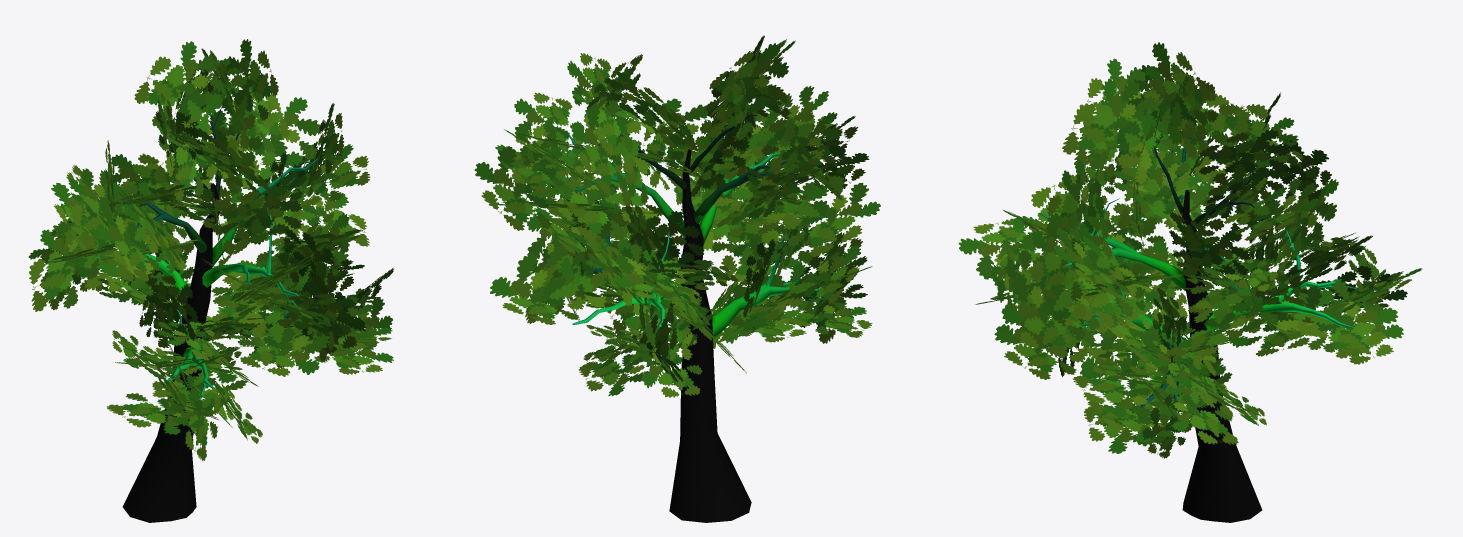
Rendered from OakTree.fbx.
3 views of the same model, side by side, from view 1: azimuth 30°, elevation 25°; view 2: azimuth 150°, elevation 25°; view 3: azimuth 270°, elevation 25° (orthographic). The views are drawn at different scales.
Visible parts, largest first — view 1: Tree_1, Tree_0; view 2: Tree_1, Tree_0; view 3: Tree_1, Tree_0.
Part boxes in pixels (<box>): Tree_1: <box>28,39,393,461</box>; Tree_0: <box>93,99,327,522</box>; Tree_1: <box>474,35,880,397</box>; Tree_0: <box>556,100,827,522</box>; Tree_1: <box>958,42,1422,458</box>; Tree_0: <box>1027,110,1356,522</box>.
Bounding box in the file's own units: 4.41 × 4.93 × 4.89.
1 material, 1 textured.
